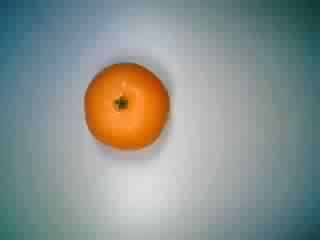orange: (77, 59, 172, 161)
